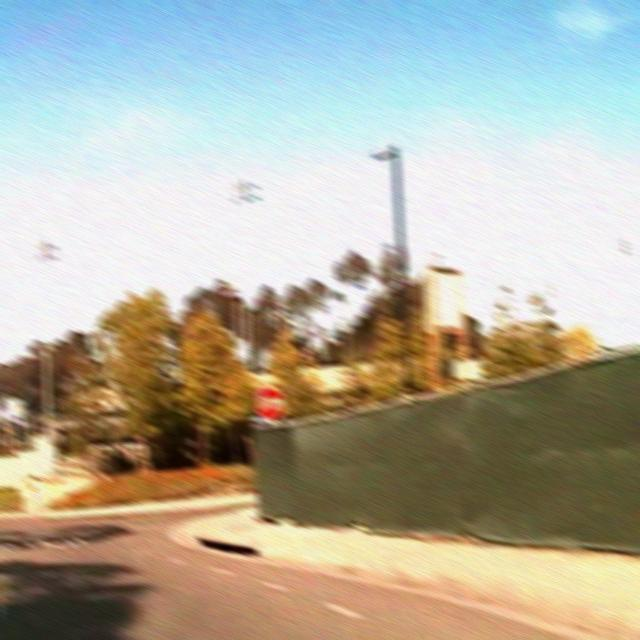stop_sign: (256, 384, 284, 421)
